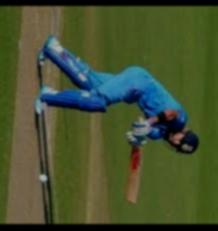batsman: (32, 25, 211, 186)
